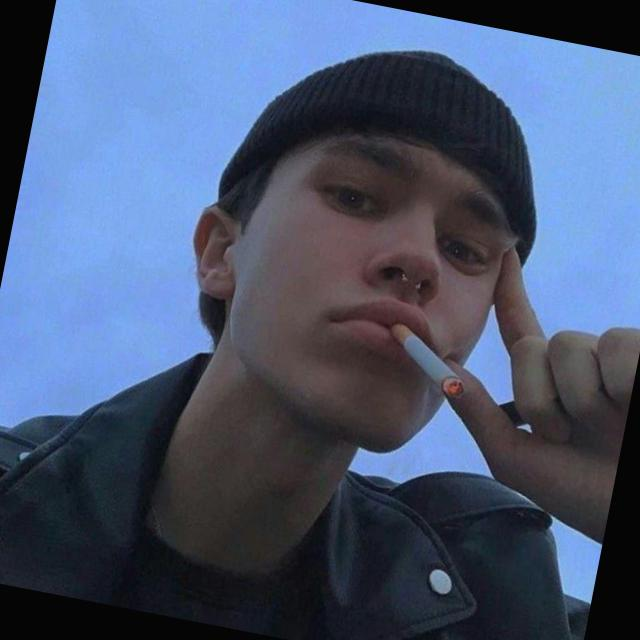smoke: (376, 301, 486, 413)
